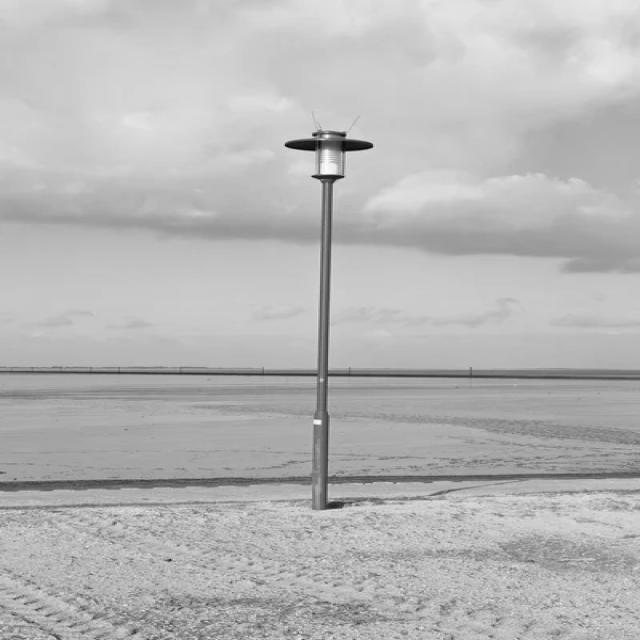Pole: (285, 129, 373, 512)
